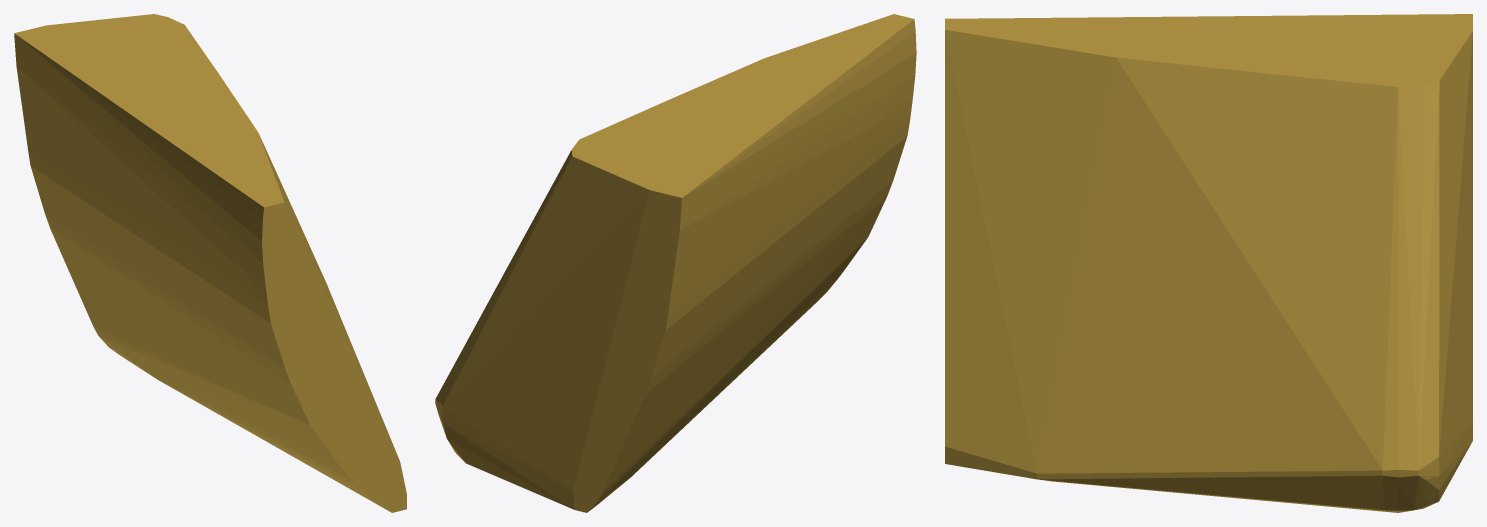
Rendered from right-shoulder-pitch-0_part_37.obj.
3 views of the same model, side by side, from view 1: azimuth 30°, elevation 25°; view 2: azimuth 150°, elevation 25°; view 3: azimuth 270°, elevation 25° (orthographic). The views are drawn at different scales.
Bounding box in the file's own units: 0.0261 × 0.0319 × 0.0402.
